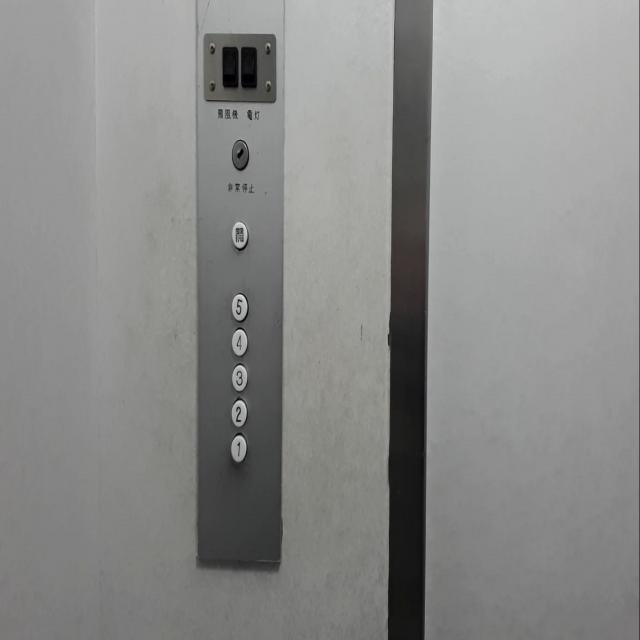1: (228, 430, 248, 465)
2: (228, 396, 248, 431)
3: (228, 360, 248, 395)
4: (229, 324, 248, 359)
5: (229, 289, 248, 324)
keyhole: (230, 136, 249, 172)
switch: (220, 41, 240, 92), (238, 41, 258, 92)
text: (229, 218, 248, 254)
